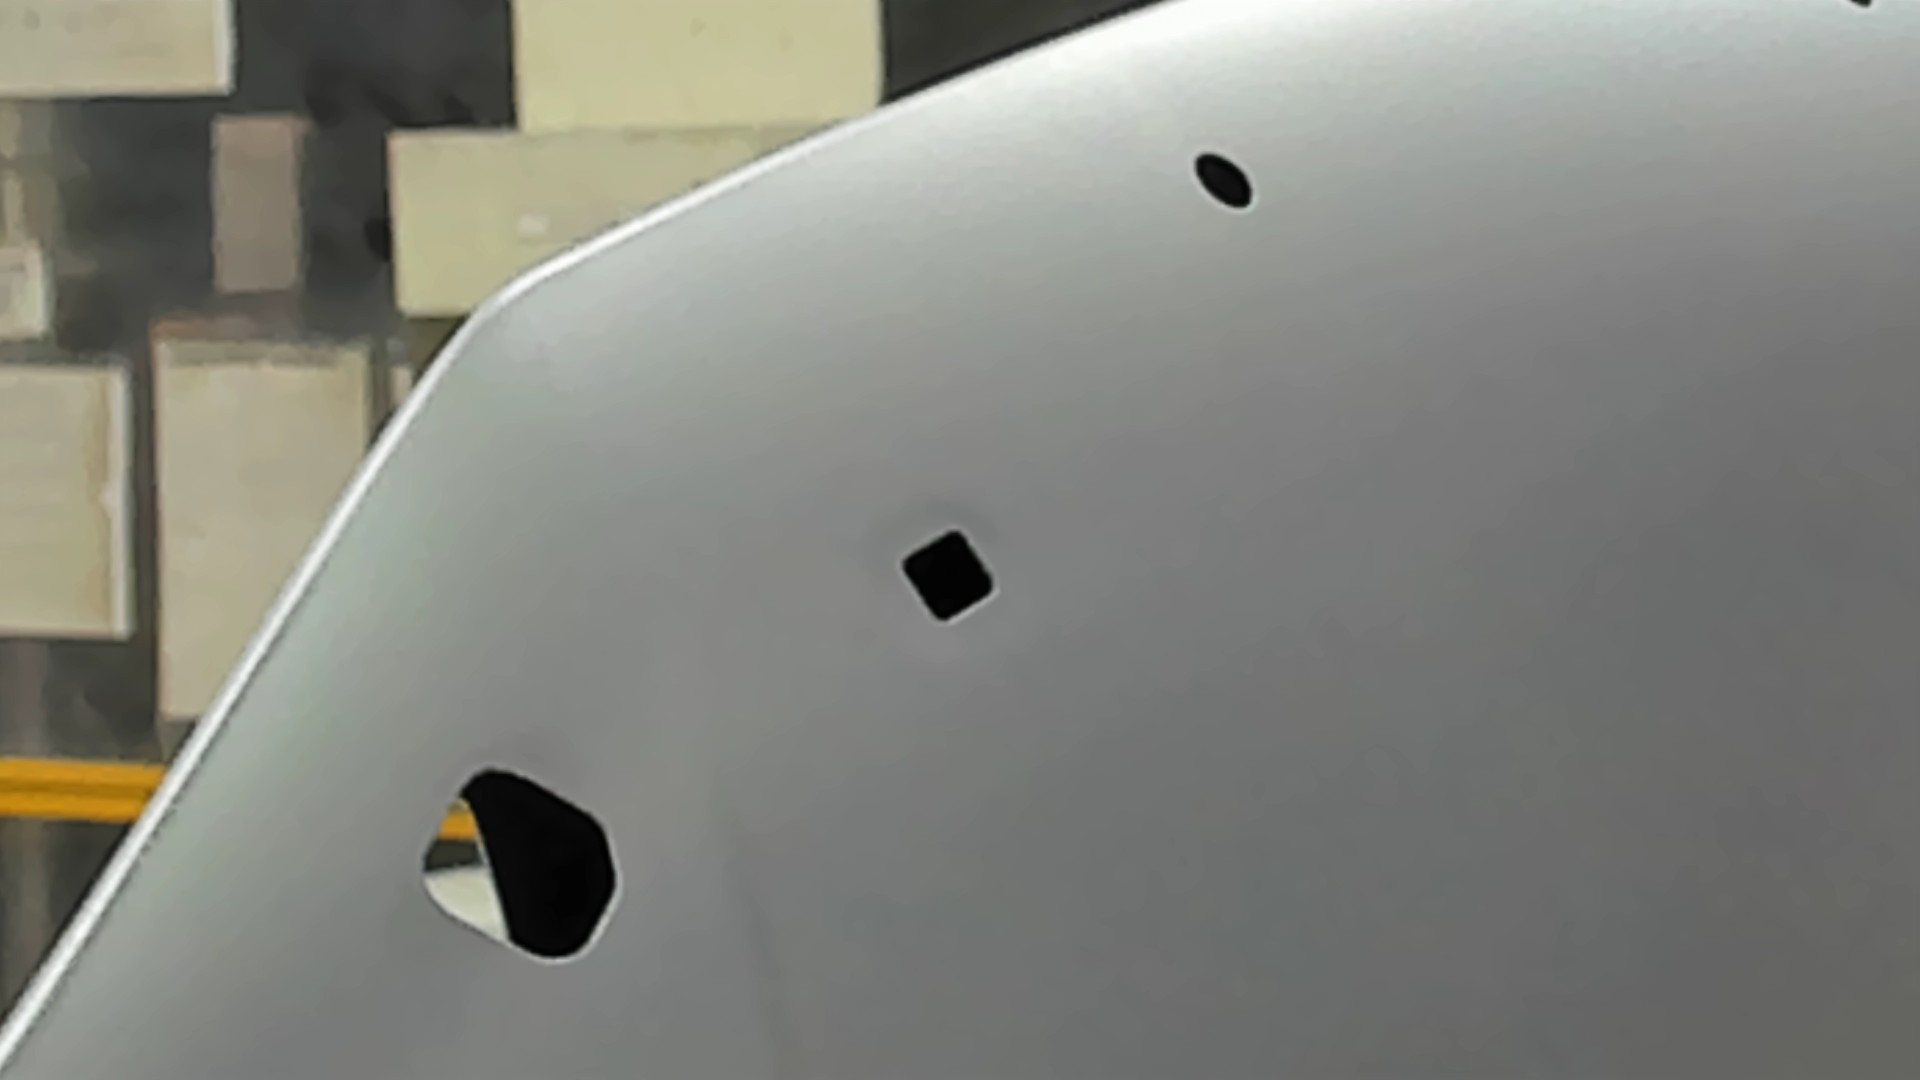chico: (1189, 148, 1255, 214), (1851, 1, 1880, 13)
grande: (410, 760, 625, 975)
mediano: (895, 522, 997, 628)
